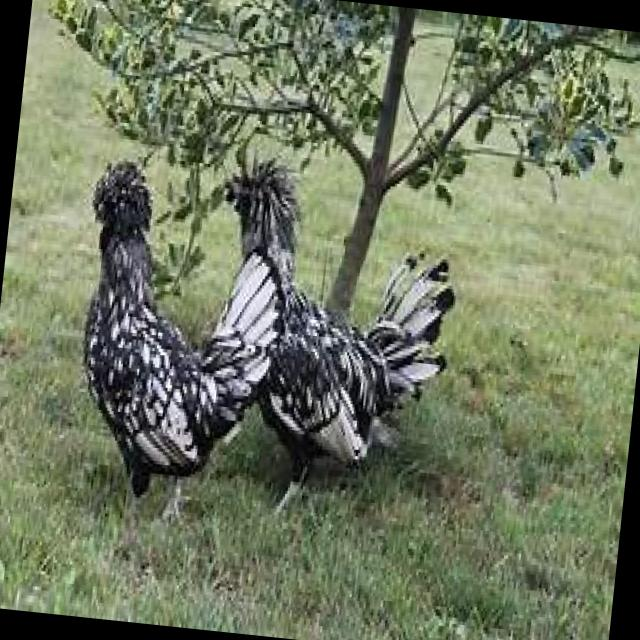chicken: (189, 146, 466, 531), (58, 152, 302, 533)
